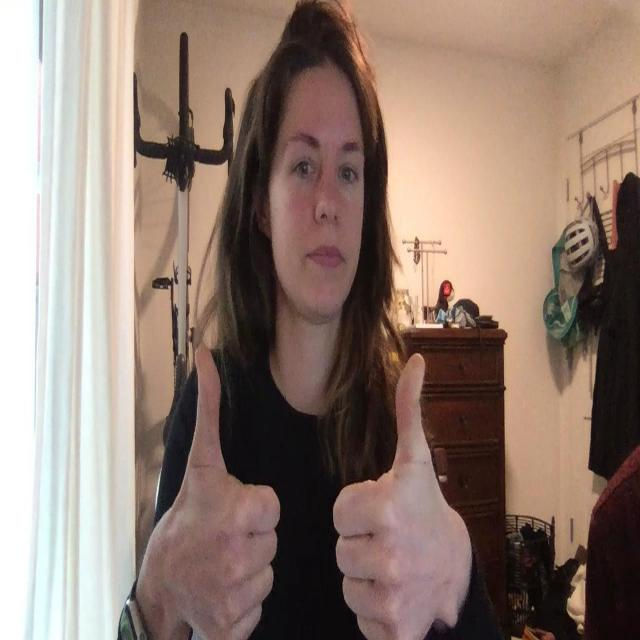face: (269, 98, 365, 324)
